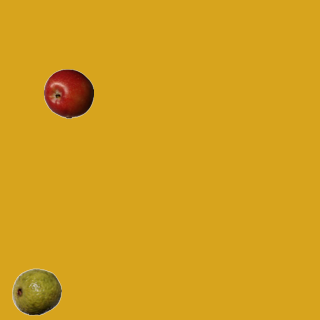Apple Braeburn: (43, 68, 93, 118)
Guava: (11, 266, 61, 316)
